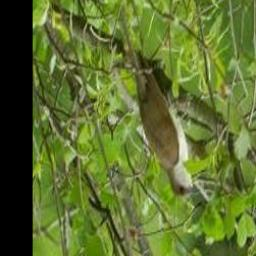Cuckoo: (119, 6, 197, 197)
